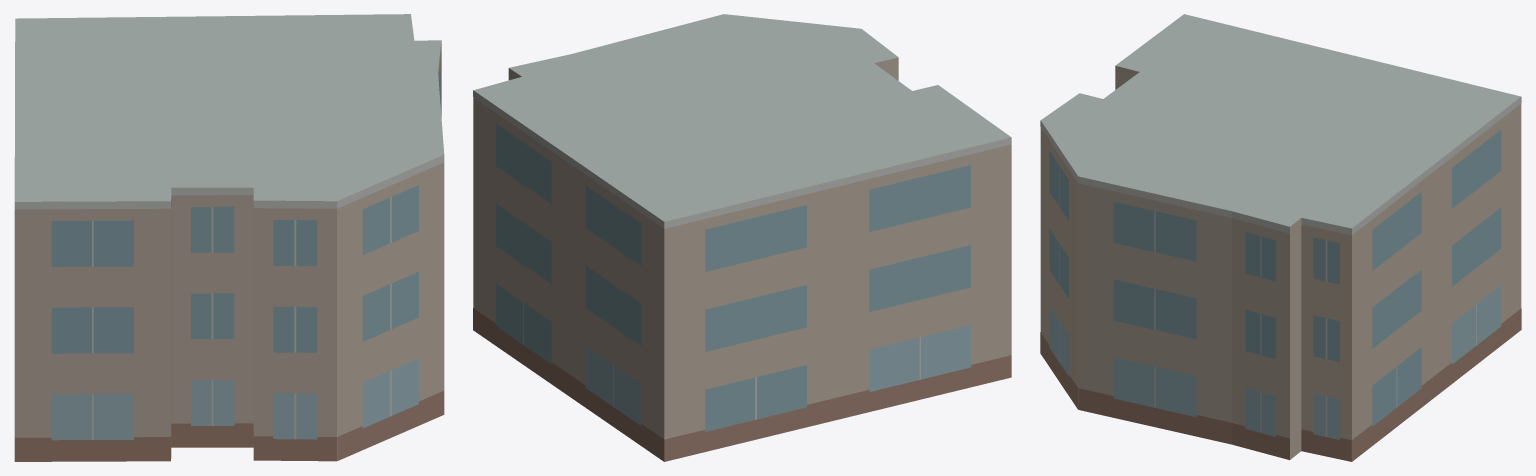
The model's file is survey-upis-32799687.glb.
3 views of the same model, side by side, from view 1: azimuth 30°, elevation 25°; view 2: azimuth 150°, elevation 25°; view 3: azimuth 270°, elevation 25° (orthographic). The views are drawn at different scales.
Visible parts, largest first — view 1: survey-upis-32799687.tmp; view 2: survey-upis-32799687.tmp; view 3: survey-upis-32799687.tmp.
Boxes of the visible parts, x1=… form: survey-upis-32799687.tmp: x1=14, y1=14, x2=444, y2=461; survey-upis-32799687.tmp: x1=473, y1=14, x2=1011, y2=461; survey-upis-32799687.tmp: x1=1040, y1=14, x2=1521, y2=461.
Bounding box in the file's own units: 16.57 × 8.4 × 15.69.
